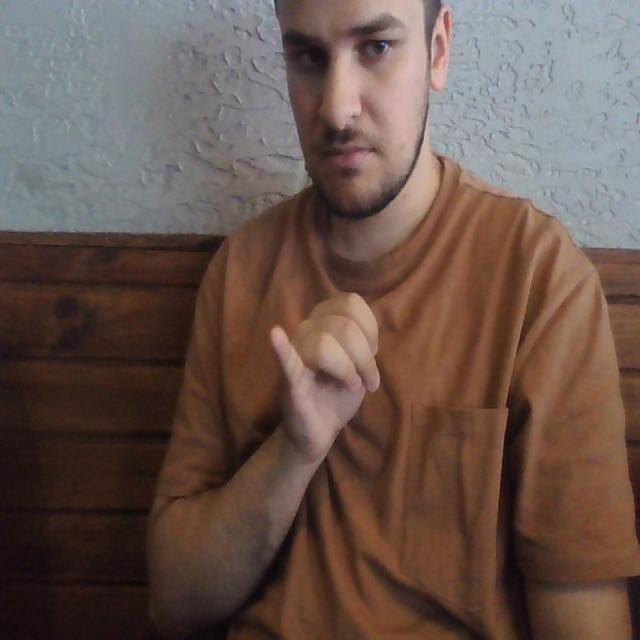kotu: (263, 282, 389, 436)
